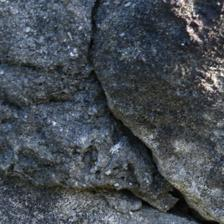Crack: (42, 2, 161, 215)
